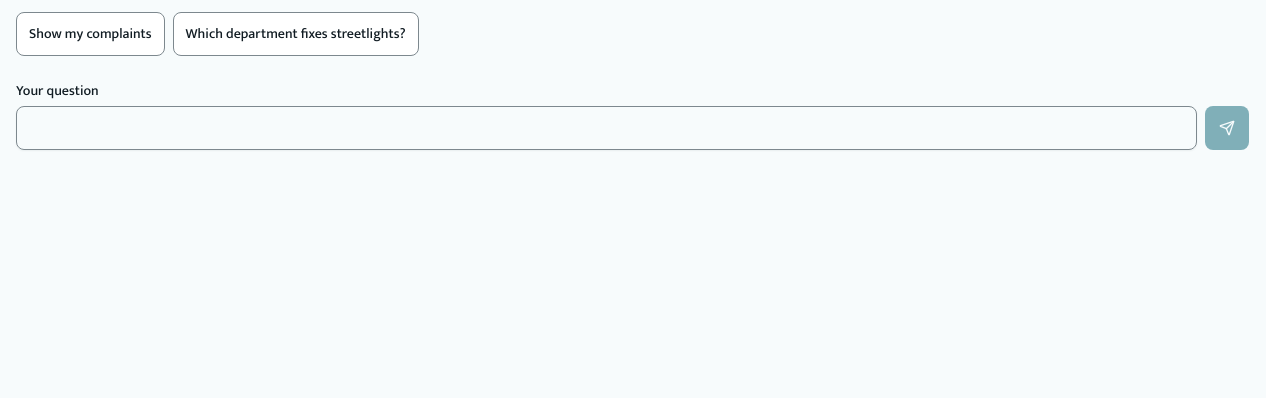
Test: Help chat › shows a ticket answered from the records, and what it couldn't find
Type "where are NIV-2026-000042 and NIV-2026-999999" into the text box labelled "Your question".
click(606, 128); type("where are NIV-2026-000042 and NIV-2026-999999")  # box [16,106,1197,150]
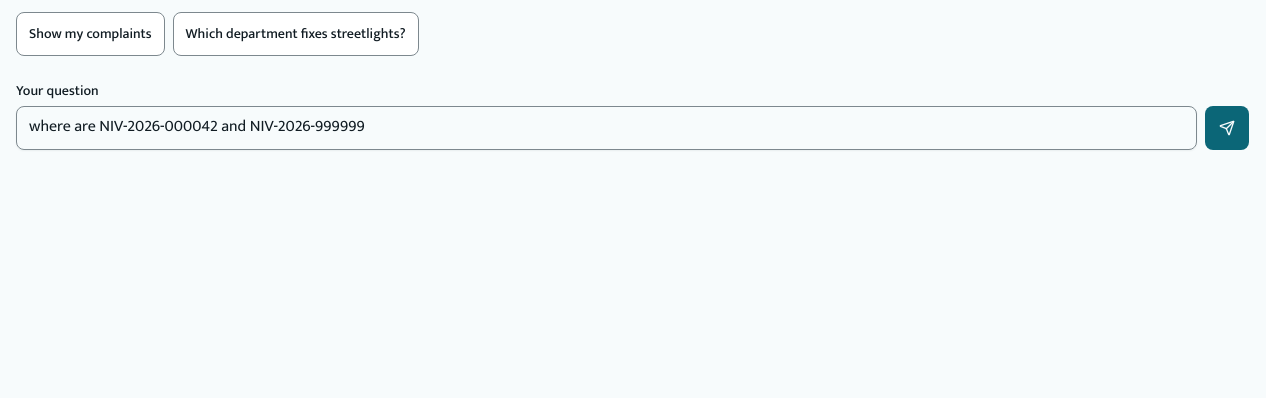
Click the button named "Send".
click(1227, 128)  # box [1205,106,1249,150]
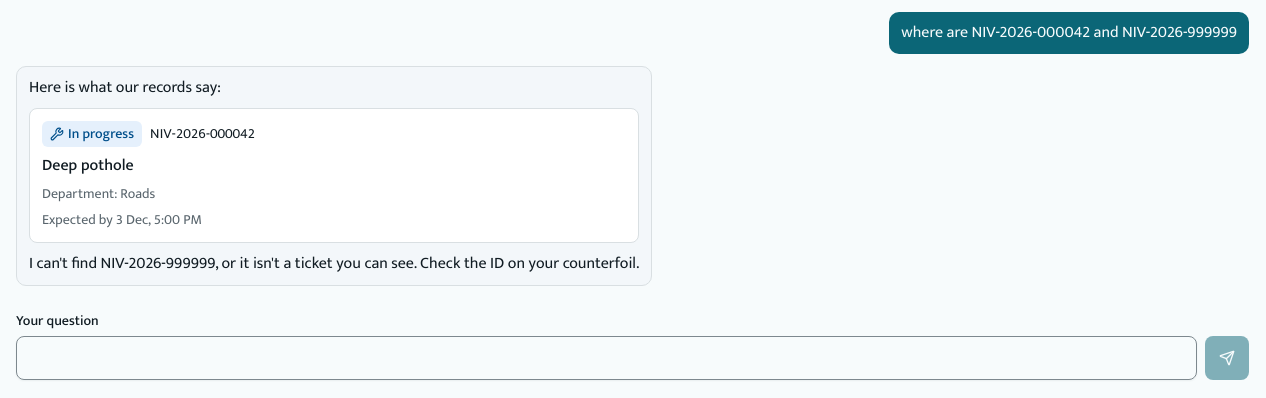
Expected: the text "Deep pothole" is shown, [42,152,134,179]
Expected: the text "Department: Roads" is shown, [42,182,155,205]
Expected: the text "I can't find NIV-2026-999999" is shown, [29,250,639,277]
